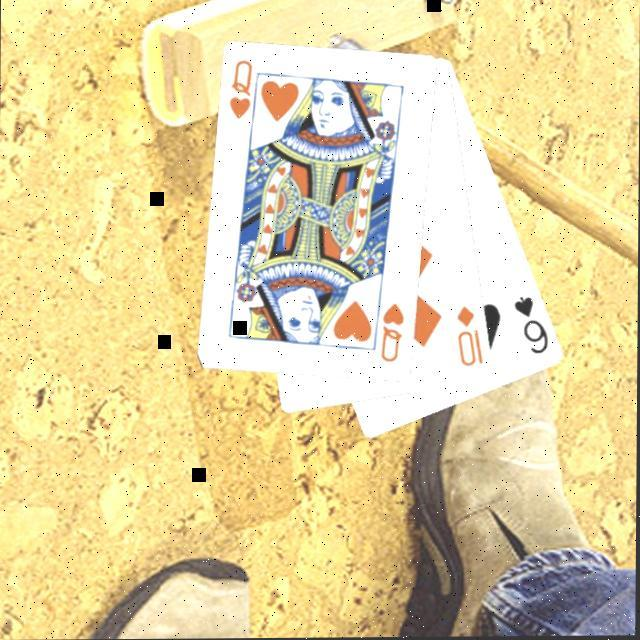10D: (455, 302, 489, 370)
6S: (512, 292, 554, 358)
QH: (228, 56, 265, 132), (380, 300, 410, 366)
